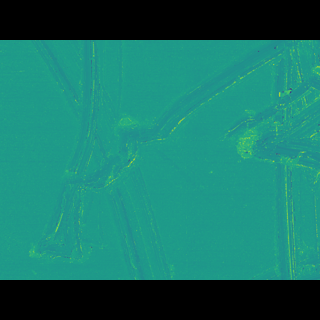Loch: (22, 69, 320, 242)
